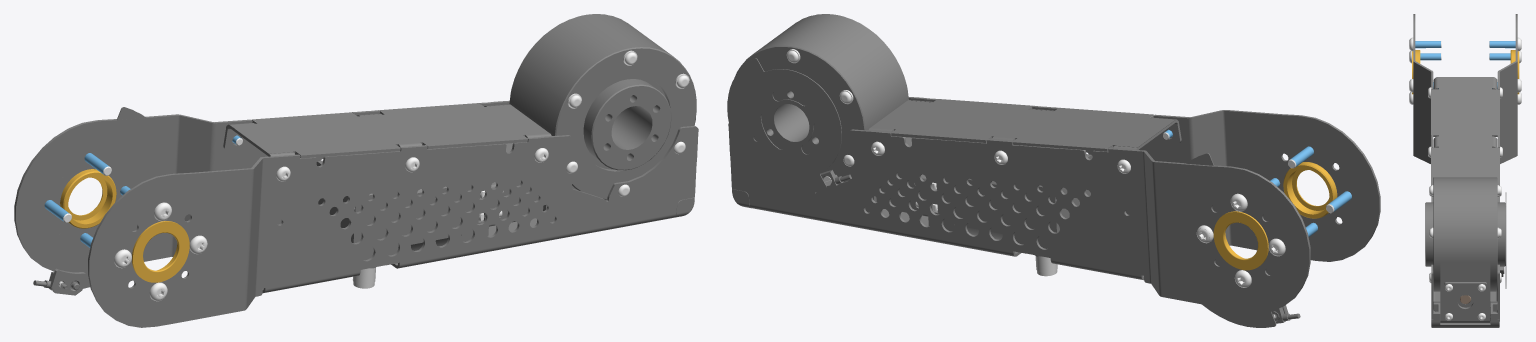
The picture shows the model from 3 angles, left to right: view 1: azimuth 30°, elevation 25°; view 2: azimuth 150°, elevation 25°; view 3: azimuth 270°, elevation 25°; orthographic projection. The views are drawn at different scales.
Parts seen in each view (by area): view 1: J3-ORI.SLDPRT; view 2: J3-ORI.SLDPRT; view 3: J3-ORI.SLDPRT.
Part boxes in pixels (x1,y1,x2,y2): J3-ORI.SLDPRT: (14, 14, 698, 327); J3-ORI.SLDPRT: (727, 14, 1380, 327); J3-ORI.SLDPRT: (1409, 14, 1521, 327).
Bounding box in the file's own units: 0.3524 × 0.1029 × 0.0785.
